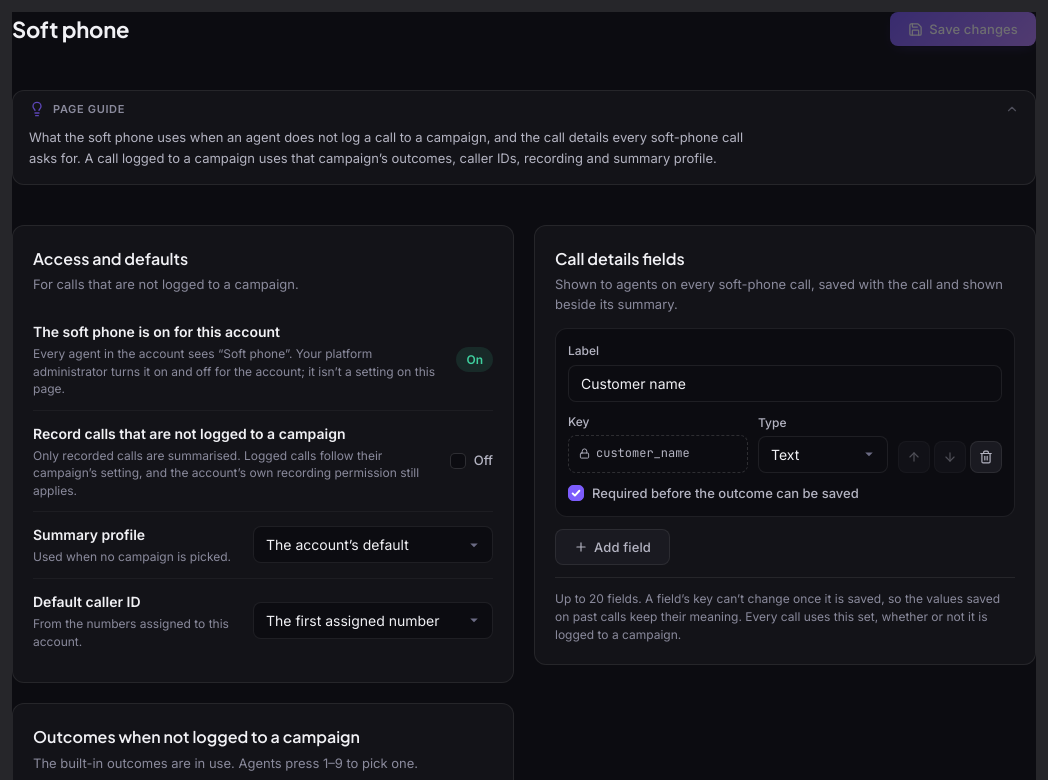
Settings → Soft phone › puts the server’s settings_invalid details on their fields
Click the switch with test id "softphone-settings-record" at (458,461), box [450,453,466,469]
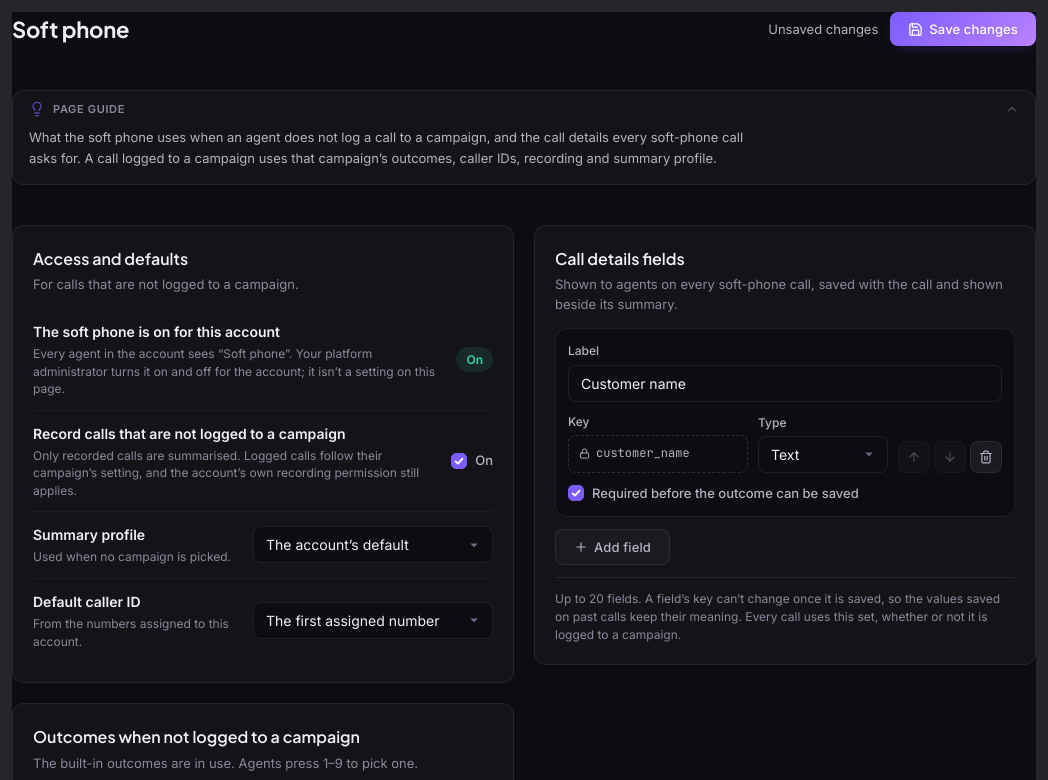
Click the button with test id "softphone-settings-save" at (963,29), box [890,12,1036,46]
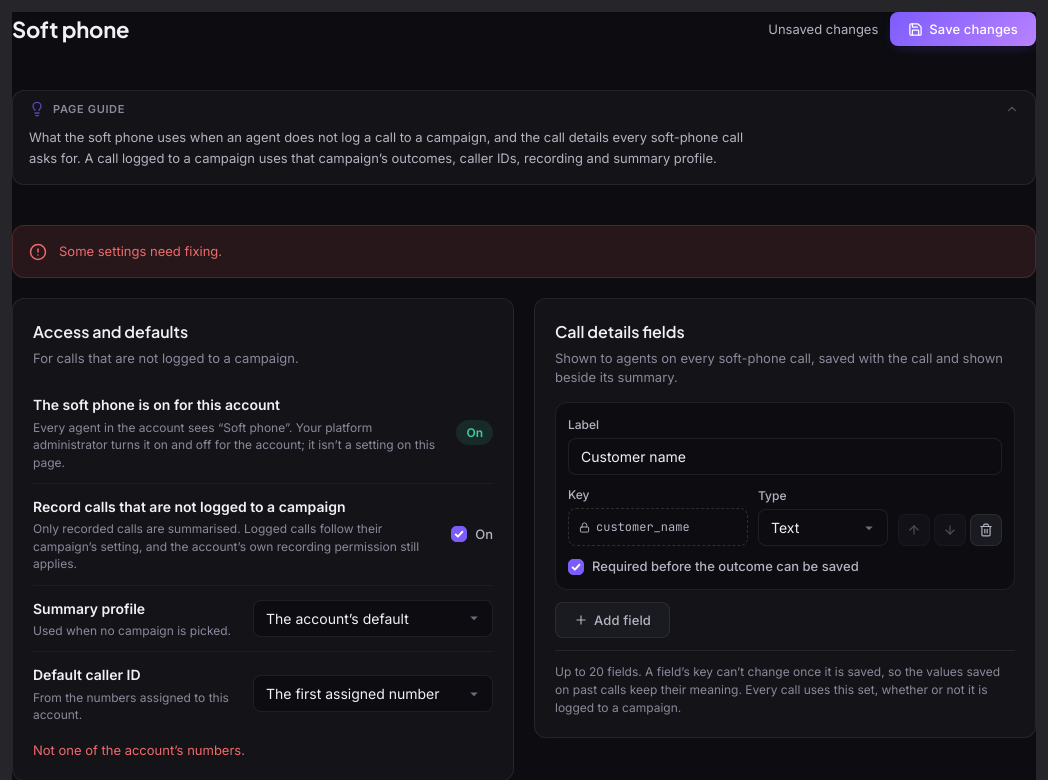
Check: the text "Not one of the account’s numbers." is shown, box [33,742,245,758]
Check: the text "Some settings need fixing." is shown, box [59,243,222,259]
